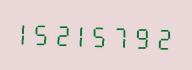five: (36, 17, 54, 48), (93, 19, 111, 50)
nine: (131, 21, 149, 51)
one: (17, 17, 35, 47), (74, 19, 92, 49)
seven: (112, 20, 130, 51)
two: (55, 18, 73, 49), (150, 21, 168, 52)
